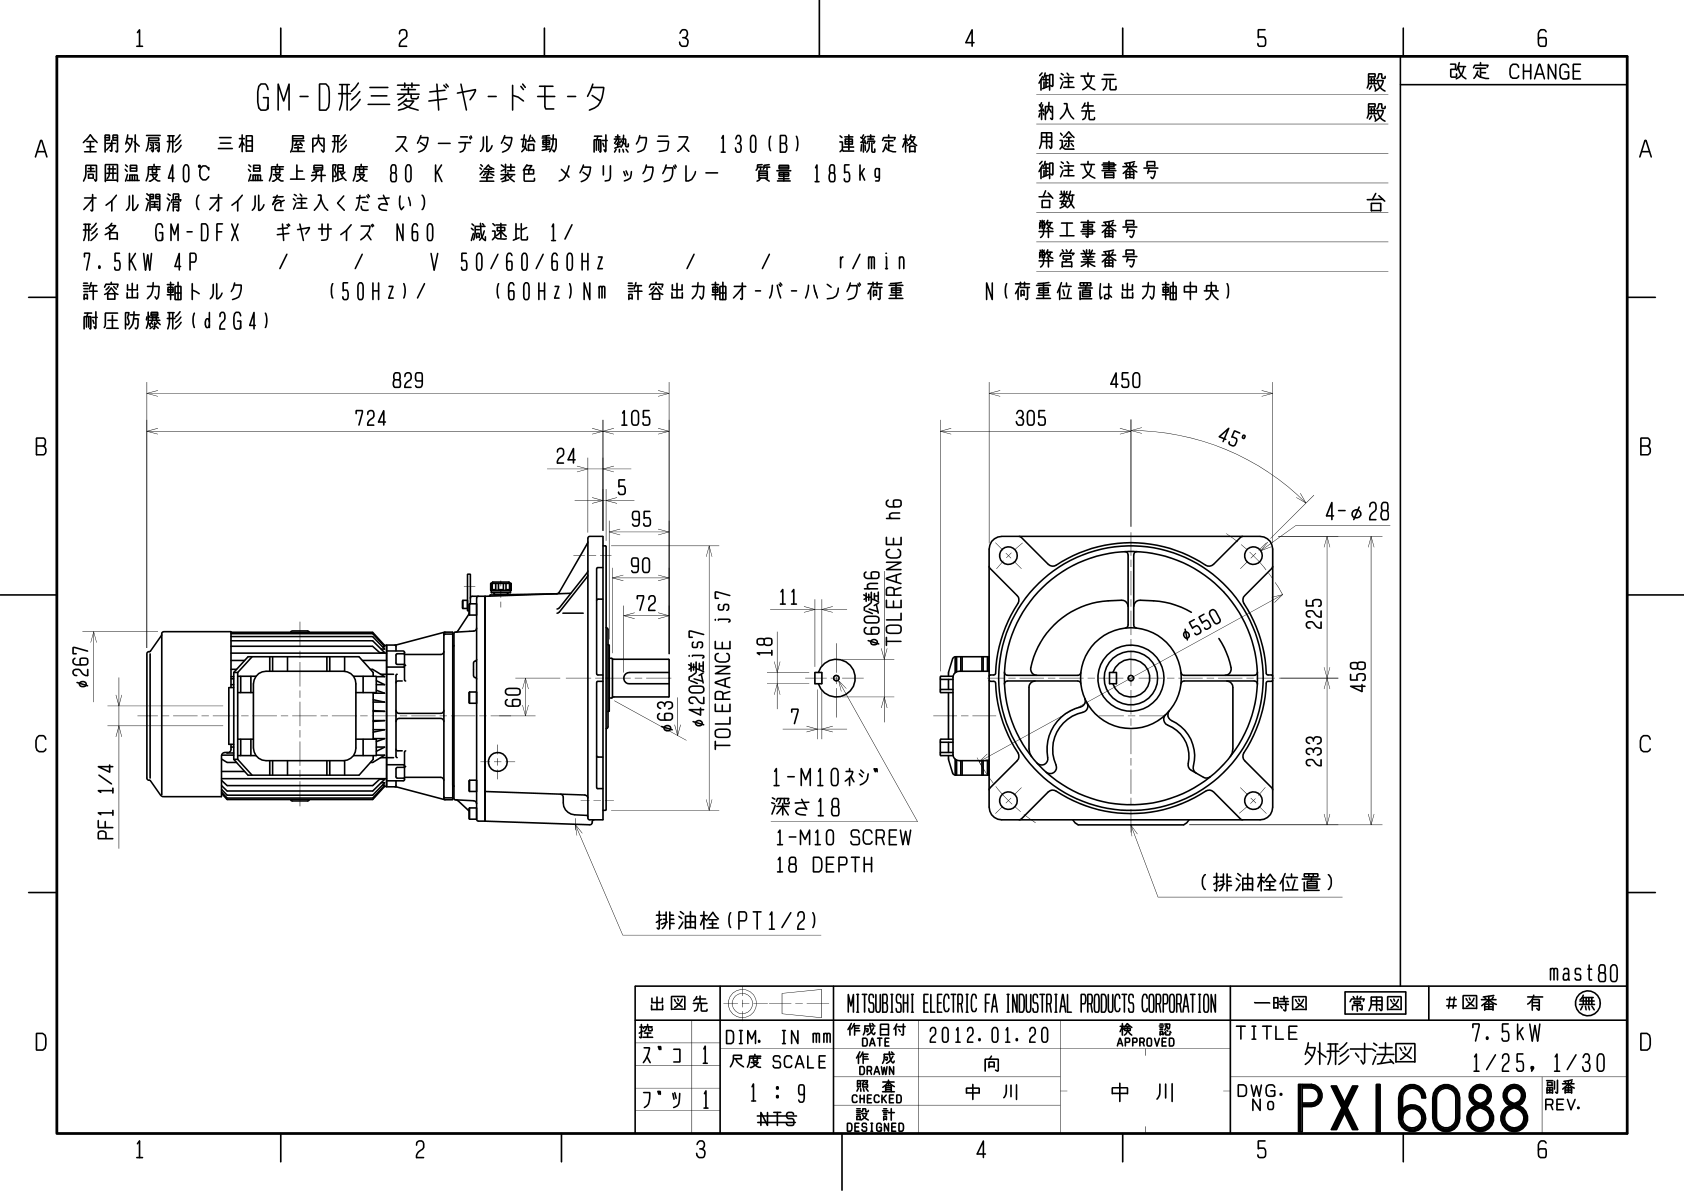GM_SP_屋内＿三相_フランジ: (64, 353, 1393, 971)
